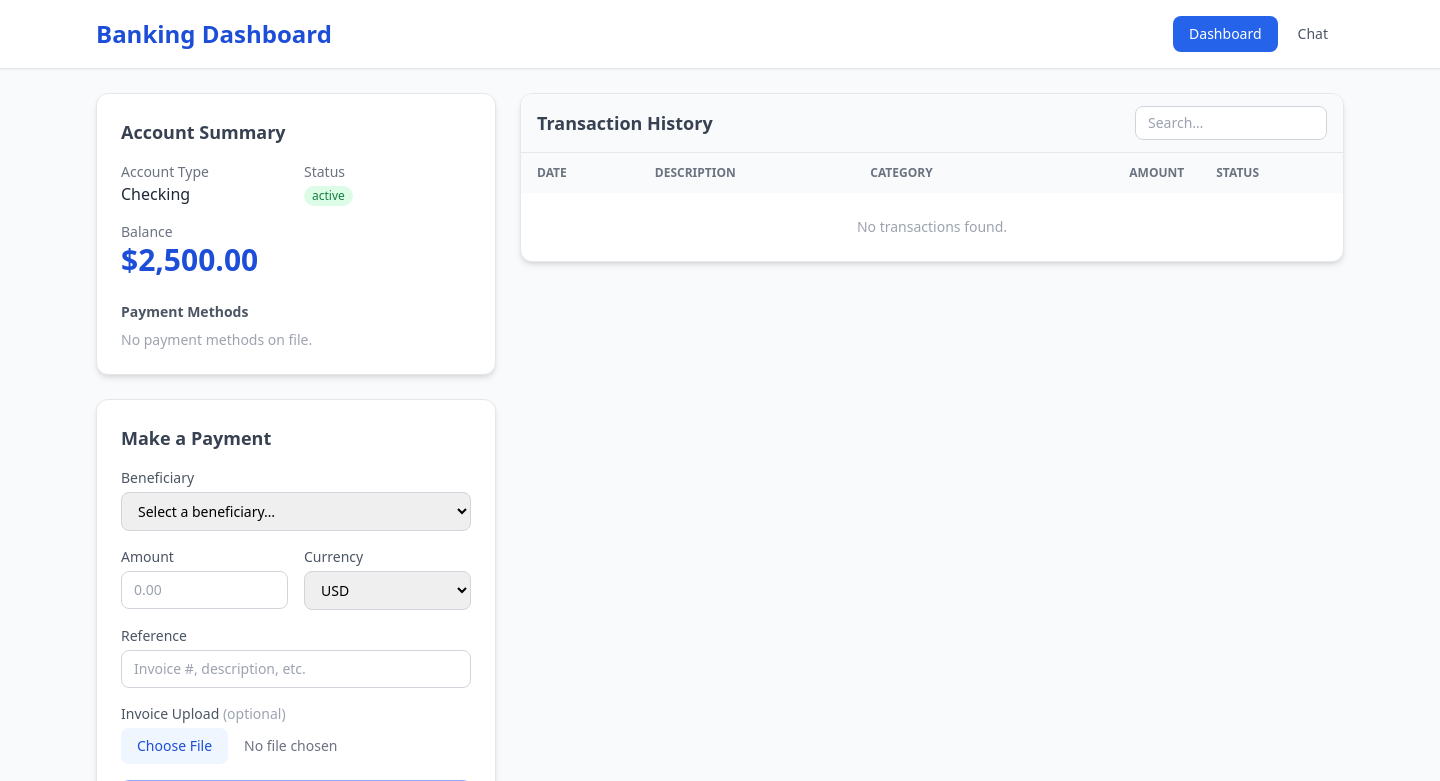
Test case: App › switches to chat tab
This screenshot has width=1440, height=781.
Click the button "Chat". click: (1313, 34)
box: [1282,16,1344,52]
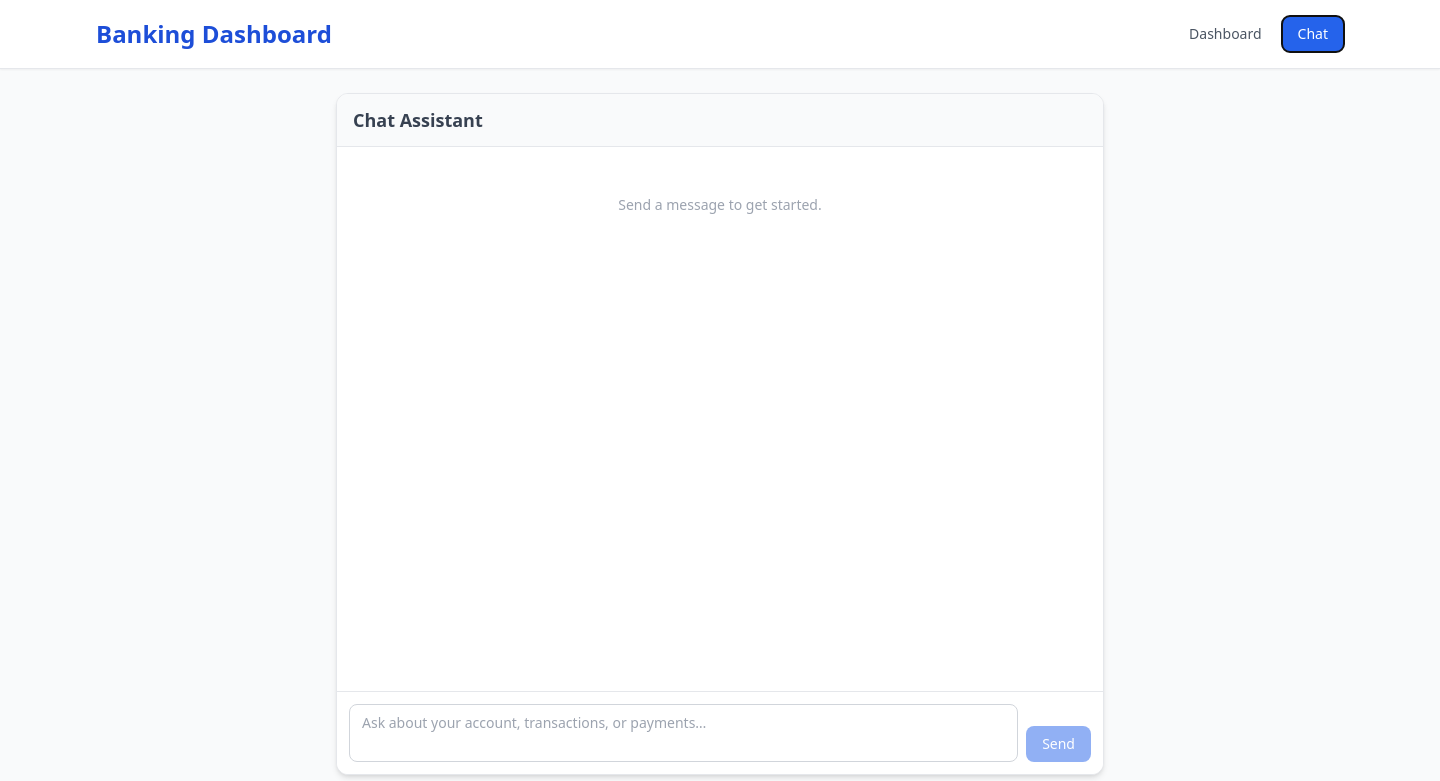
expect the heading "Chat Assistant" is shown: met, box [353,108,483,132]
